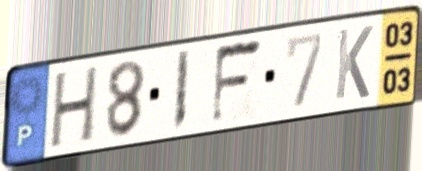7: (284, 29, 325, 112)
8: (105, 59, 147, 141)
F: (208, 35, 266, 129)
H: (47, 62, 102, 152)
I: (170, 47, 193, 134)
K: (332, 23, 376, 103)
